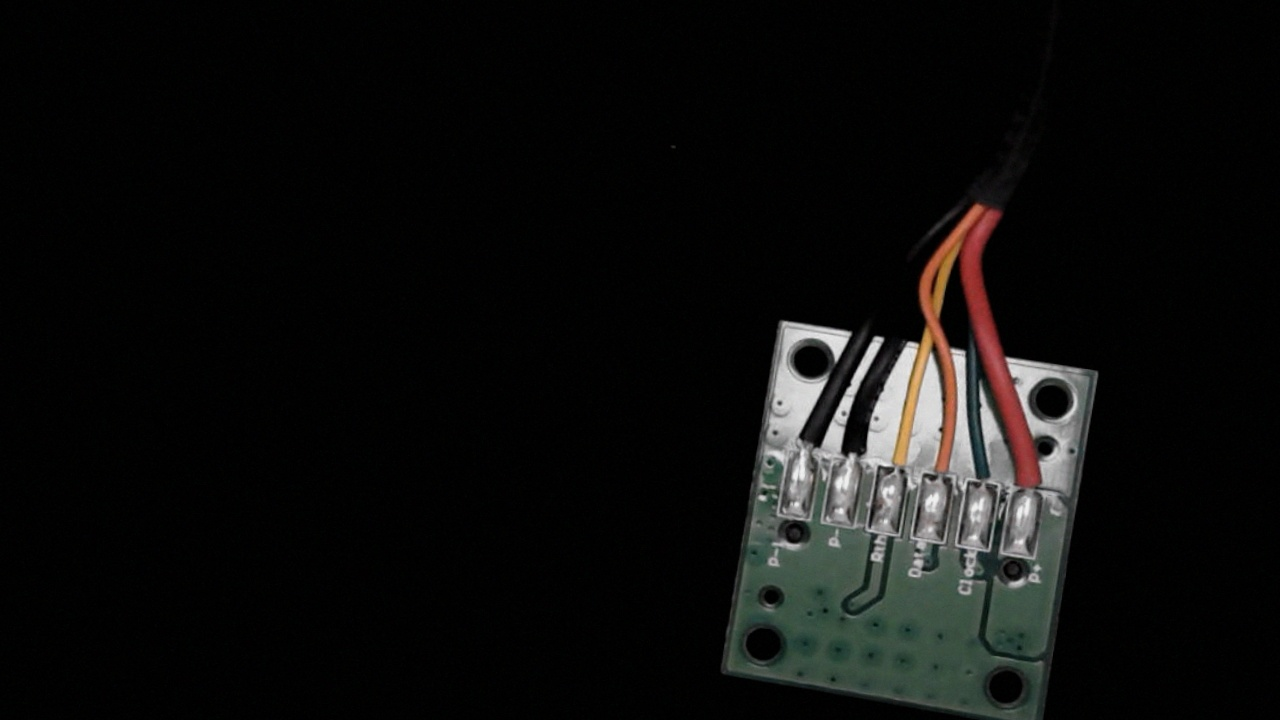Black: (833, 414, 874, 480)
Black1: (787, 405, 830, 471)
Green: (963, 442, 1008, 505)
Orange: (918, 433, 965, 495)
Red: (1011, 450, 1051, 513)
Yellow: (874, 418, 922, 486)
